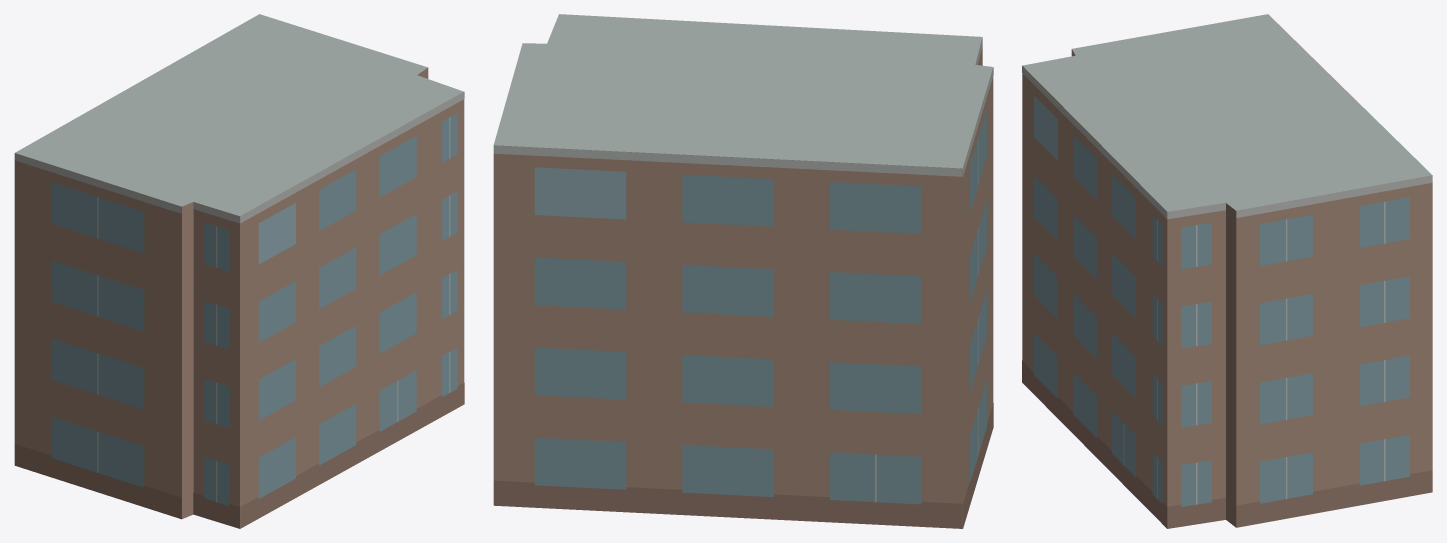
Rendered from survey-upis-33020911.glb.
3 views of the same model, side by side, from view 1: azimuth 30°, elevation 25°; view 2: azimuth 150°, elevation 25°; view 3: azimuth 270°, elevation 25° (orthographic). The views are drawn at different scales.
Visible parts, largest first — view 1: survey-upis-33020911.tmp; view 2: survey-upis-33020911.tmp; view 3: survey-upis-33020911.tmp.
Part boxes in pixels (left/top/right/bottom): survey-upis-33020911.tmp: left=14, top=14, right=464, bottom=528; survey-upis-33020911.tmp: left=493, top=14, right=993, bottom=528; survey-upis-33020911.tmp: left=1022, top=14, right=1432, bottom=528.
Size of the model in its own units: 14.07 by 10.5 by 12.33.
